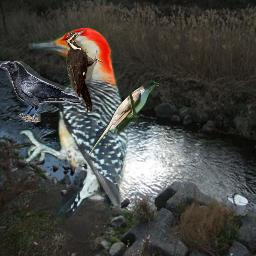Crow: (0, 61, 81, 122)
Cuckoo: (88, 80, 159, 155)
Woodpecker: (20, 27, 132, 218), (59, 30, 103, 113)
